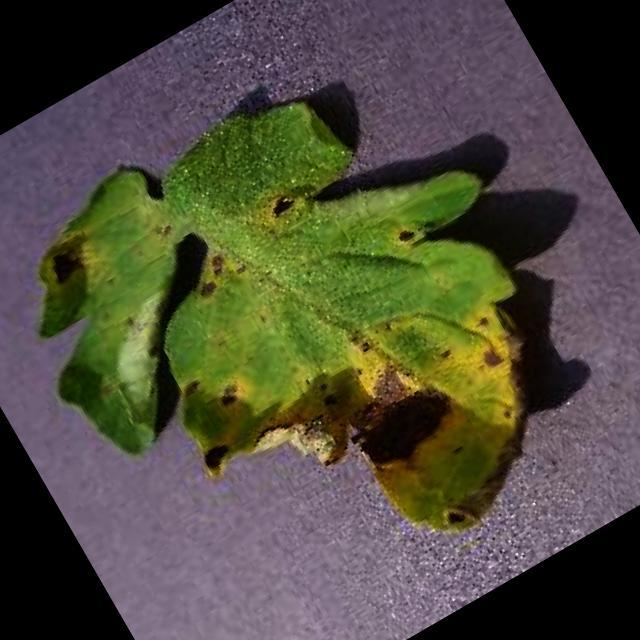Tomato Septoria spot leaf: (0, 5, 631, 640)
